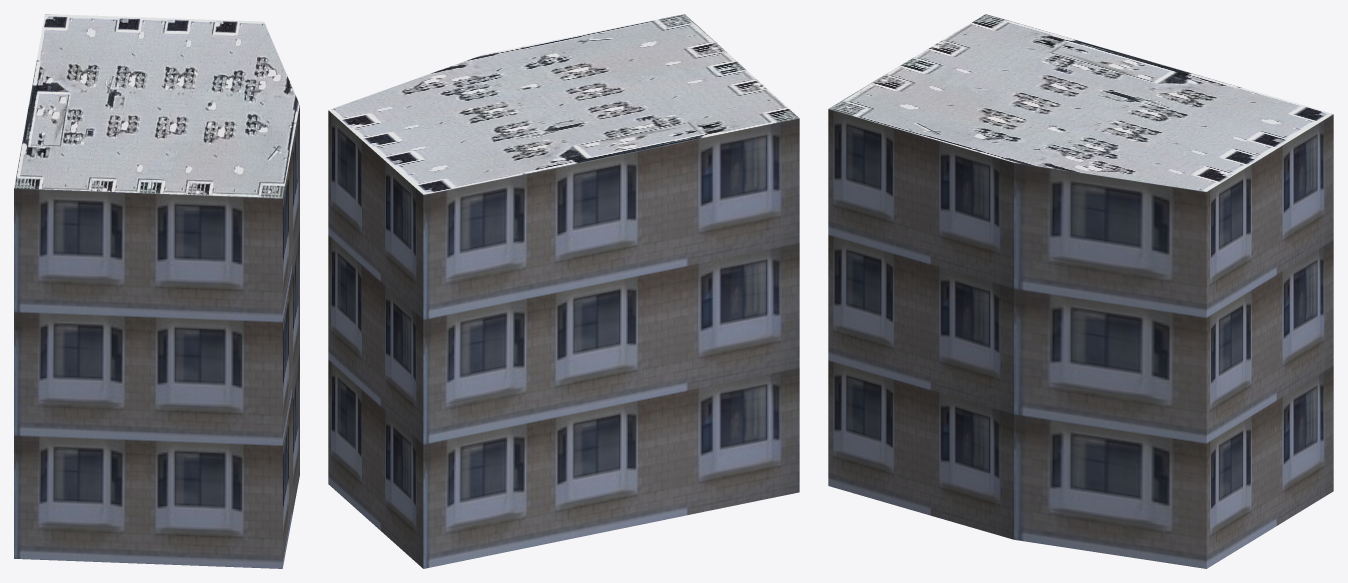
Rendered from ResTex__2088.fbx.
The picture shows the model from 3 angles, left to right: view 1: azimuth 30°, elevation 25°; view 2: azimuth 150°, elevation 25°; view 3: azimuth 270°, elevation 25°; orthographic projection.
Parts seen in each view (by area): view 1: CityEngineMaterial_3_m, CityEngineMaterial_4_m; view 2: CityEngineMaterial_3_m, CityEngineMaterial_4_m; view 3: CityEngineMaterial_3_m, CityEngineMaterial_4_m.
Part boxes in pixels (<box>): CityEngineMaterial_3_m: <box>14,105,299,568</box>; CityEngineMaterial_4_m: <box>14,14,299,198</box>; CityEngineMaterial_3_m: <box>328,110,799,568</box>; CityEngineMaterial_4_m: <box>328,14,798,194</box>; CityEngineMaterial_3_m: <box>828,109,1333,568</box>; CityEngineMaterial_4_m: <box>828,14,1333,191</box>.
Bounding box in the file's own units: 9.11 × 9 × 10.94.
Materials: 2 (2 with a texture image).
